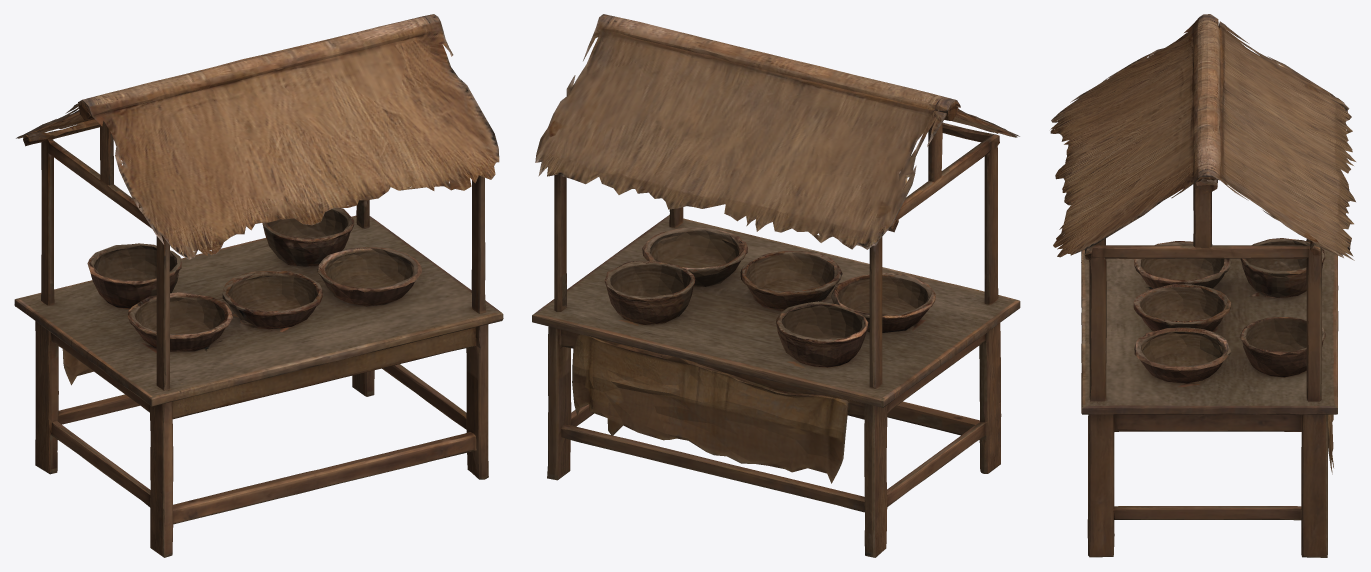
Rendered from village_market_stall.glb.
The picture shows the model from 3 angles, left to right: view 1: azimuth 30°, elevation 25°; view 2: azimuth 150°, elevation 25°; view 3: azimuth 270°, elevation 25°; orthographic projection. The views are drawn at different scales.
Visible parts, largest first — view 1: Object_2; view 2: Object_2; view 3: Object_2.
Part boxes in pixels (bbox=[...]): Object_2: bbox=[14, 14, 503, 557]; Object_2: bbox=[532, 14, 1020, 557]; Object_2: bbox=[1050, 14, 1355, 557].
Bounding box in the file's own units: 1.78 × 2 × 1.44.
Materials: 1 (1 with a texture image).
